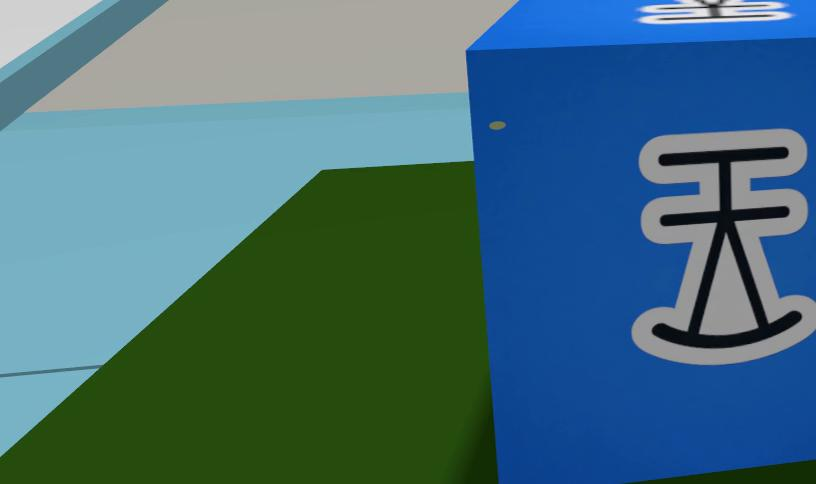KFS_REAL: (466, 0, 816, 425), (631, 135, 816, 366), (578, 55, 734, 114), (638, 0, 786, 37)
